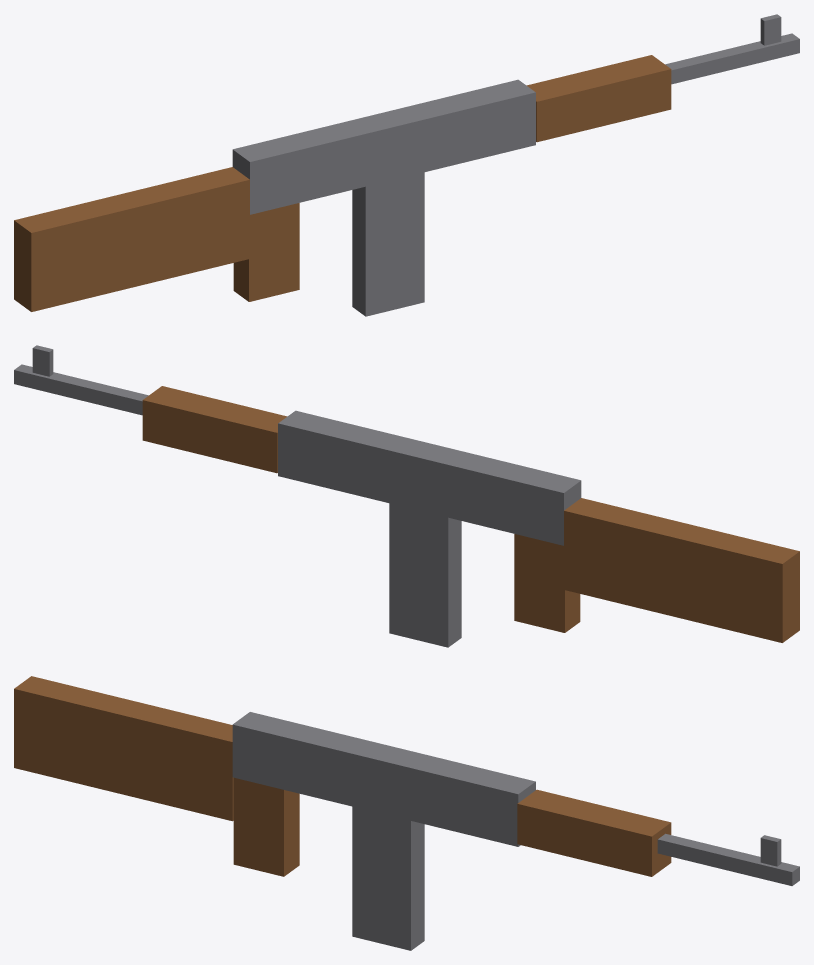
The model's file is Rifle.glb.
3 views of the same model, one above another, from view 1: azimuth 30°, elevation 25°; view 2: azimuth 150°, elevation 25°; view 3: azimuth 330°, elevation 25° (orthographic).
Parts seen in each view (by area): view 1: Rifle; view 2: Rifle; view 3: Rifle.
Part boxes in pixels (x1=…): Rifle: x1=14, y1=14, x2=799, y2=316; Rifle: x1=14, y1=345, x2=799, y2=647; Rifle: x1=14, y1=676, x2=799, y2=950.
Bounding box in the file's own units: 0.92 × 0.22 × 0.04.
